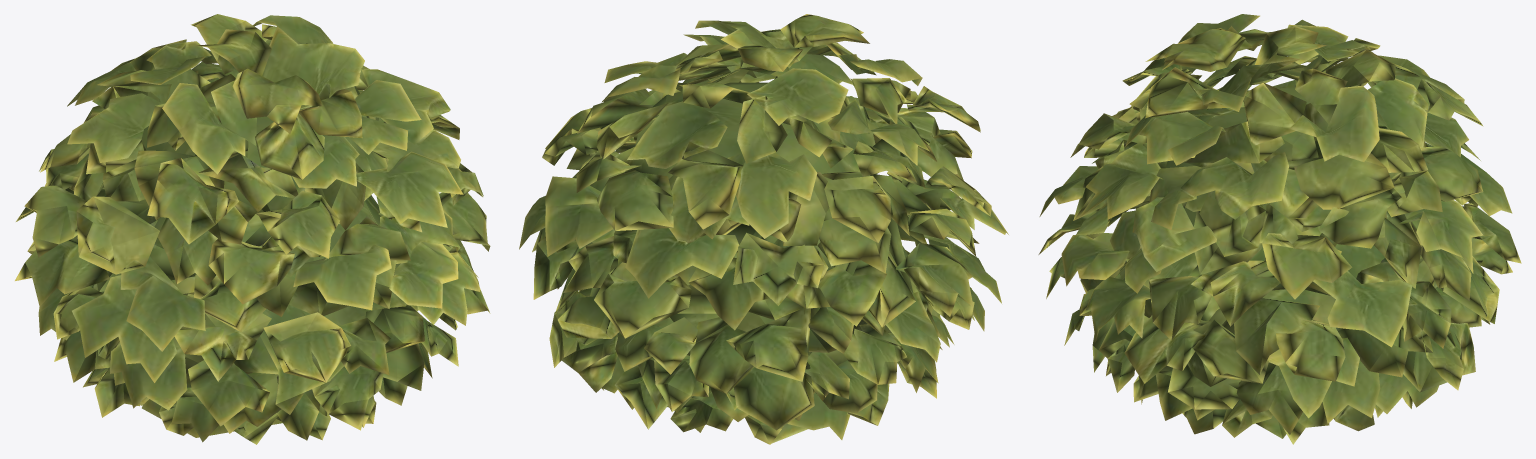
File: green_round_bush.glb
3 views of the same model, side by side, from view 1: azimuth 30°, elevation 25°; view 2: azimuth 150°, elevation 25°; view 3: azimuth 270°, elevation 25° (orthographic).
Parts seen in each view (by area): view 1: green_round_bush; view 2: green_round_bush; view 3: green_round_bush.
Boxes of the visible parts, left/top/right/bottom form: green_round_bush: left=15, top=14, right=490, bottom=444; green_round_bush: left=519, top=14, right=1008, bottom=444; green_round_bush: left=1038, top=14, right=1521, bottom=444.
Size of the model in its own units: 0.8232 by 0.65 by 0.8165.
Materials: 1 (1 with a texture image).
